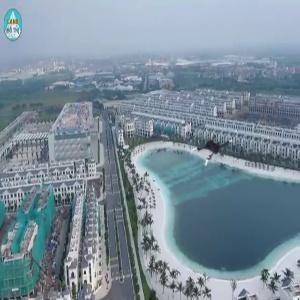drone: (190, 129, 237, 176)
